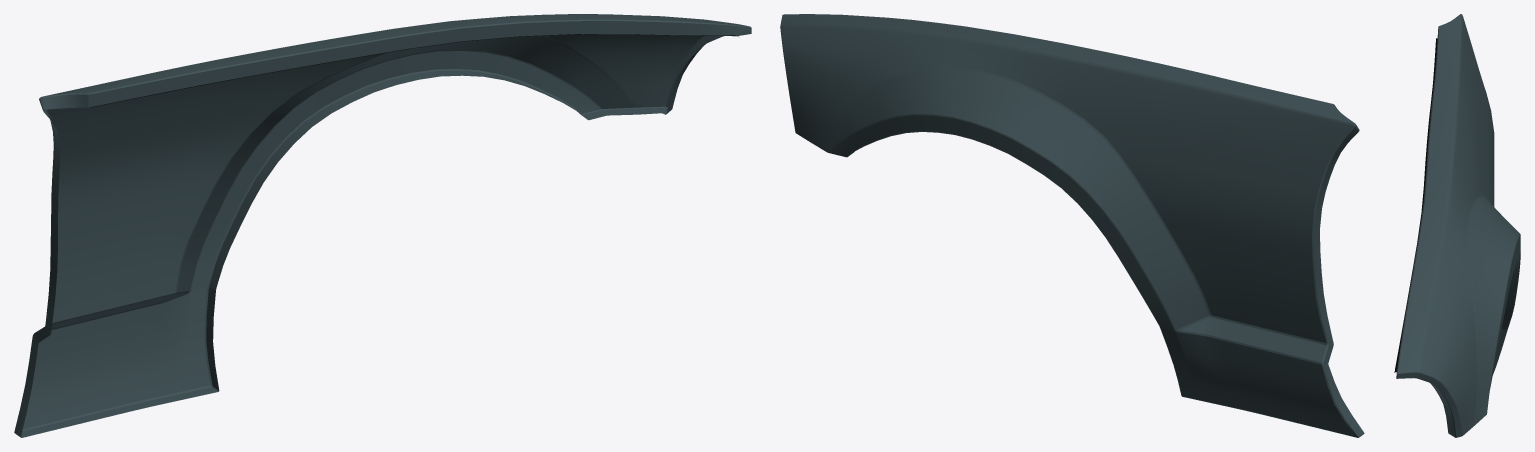
3 renders of one model, left to right at view 1: azimuth 30°, elevation 25°; view 2: azimuth 150°, elevation 25°; view 3: azimuth 270°, elevation 25°, orthographic. The views are drawn at different scales.
Visible parts, largest first — view 1: P222_15_121B_L_1_DaS_P222_15_121B_L, P222_15_121B_L_1_DaS_P222_15_121B_L_E; view 2: P222_15_121B_L_1_DaS_P222_15_121B_L, P222_15_121B_L_1_DaS_P222_15_121B_L_E; view 3: P222_15_121B_L_1_DaS_P222_15_121B_L, P222_15_121B_L_1_DaS_P222_15_121B_L_E, P222_15_121B_L_P222_15_121B_L_2_D.
Part boxes in pixels (box(x1,y1,x2,y2)): P222_15_121B_L_1_DaS_P222_15_121B_L: box(14, 14, 751, 437); P222_15_121B_L_1_DaS_P222_15_121B_L_E: box(22, 19, 750, 431); P222_15_121B_L_1_DaS_P222_15_121B_L: box(780, 14, 1364, 437); P222_15_121B_L_1_DaS_P222_15_121B_L_E: box(784, 14, 1358, 437); P222_15_121B_L_1_DaS_P222_15_121B_L: box(1396, 14, 1520, 437); P222_15_121B_L_1_DaS_P222_15_121B_L_E: box(1396, 14, 1520, 437); P222_15_121B_L_P222_15_121B_L_2_D: box(1394, 38, 1437, 372).
Bounding box in the file's own units: 146 × 69.71 × 25.75.
